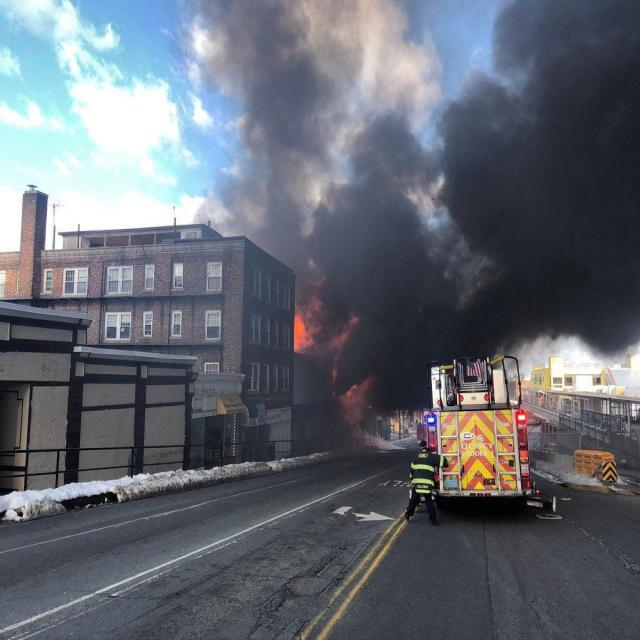Fire: (295, 285, 378, 418)
